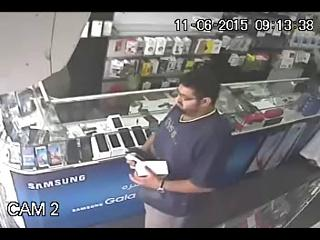shoplifting: (125, 64, 234, 228)
